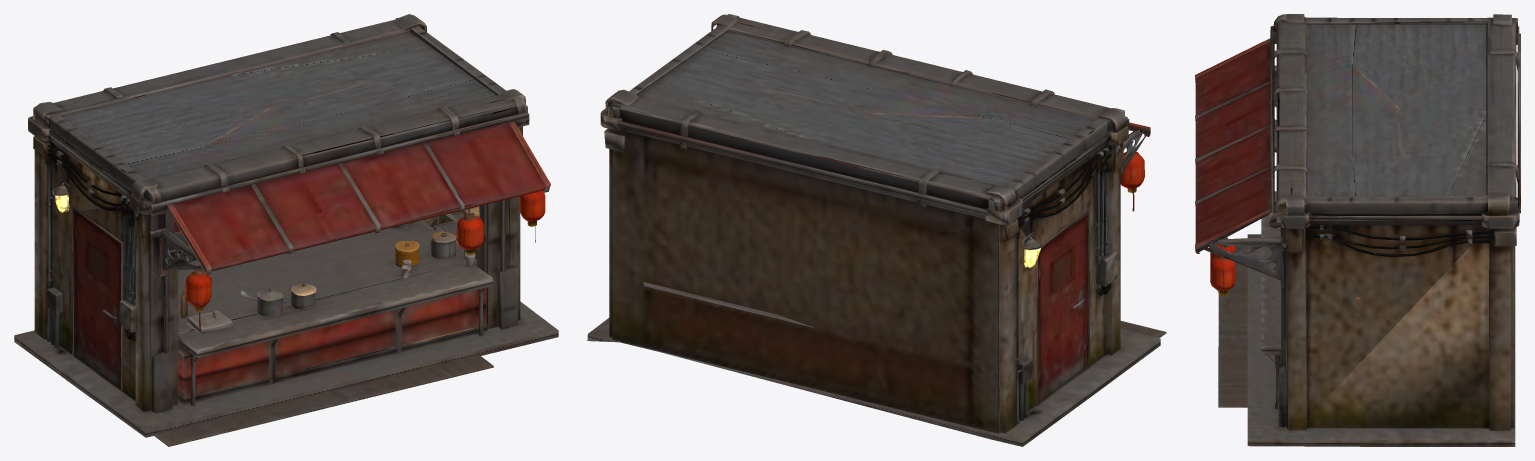
File: stall.glb
3 renders of one model, left to right at view 1: azimuth 30°, elevation 25°; view 2: azimuth 150°, elevation 25°; view 3: azimuth 270°, elevation 25°, orthographic. The views are drawn at different scales.
Parts seen in each view (by area): view 1: stall; view 2: stall; view 3: stall.
Part boxes in pixels (left/top/right/bottom): stall: left=14, top=14, right=558, bottom=446; stall: left=587, top=14, right=1166, bottom=446; stall: left=1195, top=14, right=1520, bottom=446.
Size of the model in its own units: 5 by 2.71 by 3.34.
Materials: 1 (1 with a texture image).
